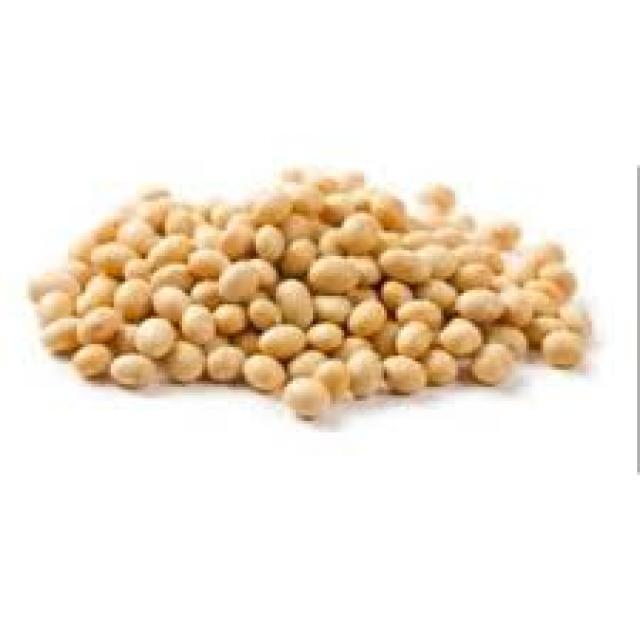Soybean: (31, 124, 640, 481)
